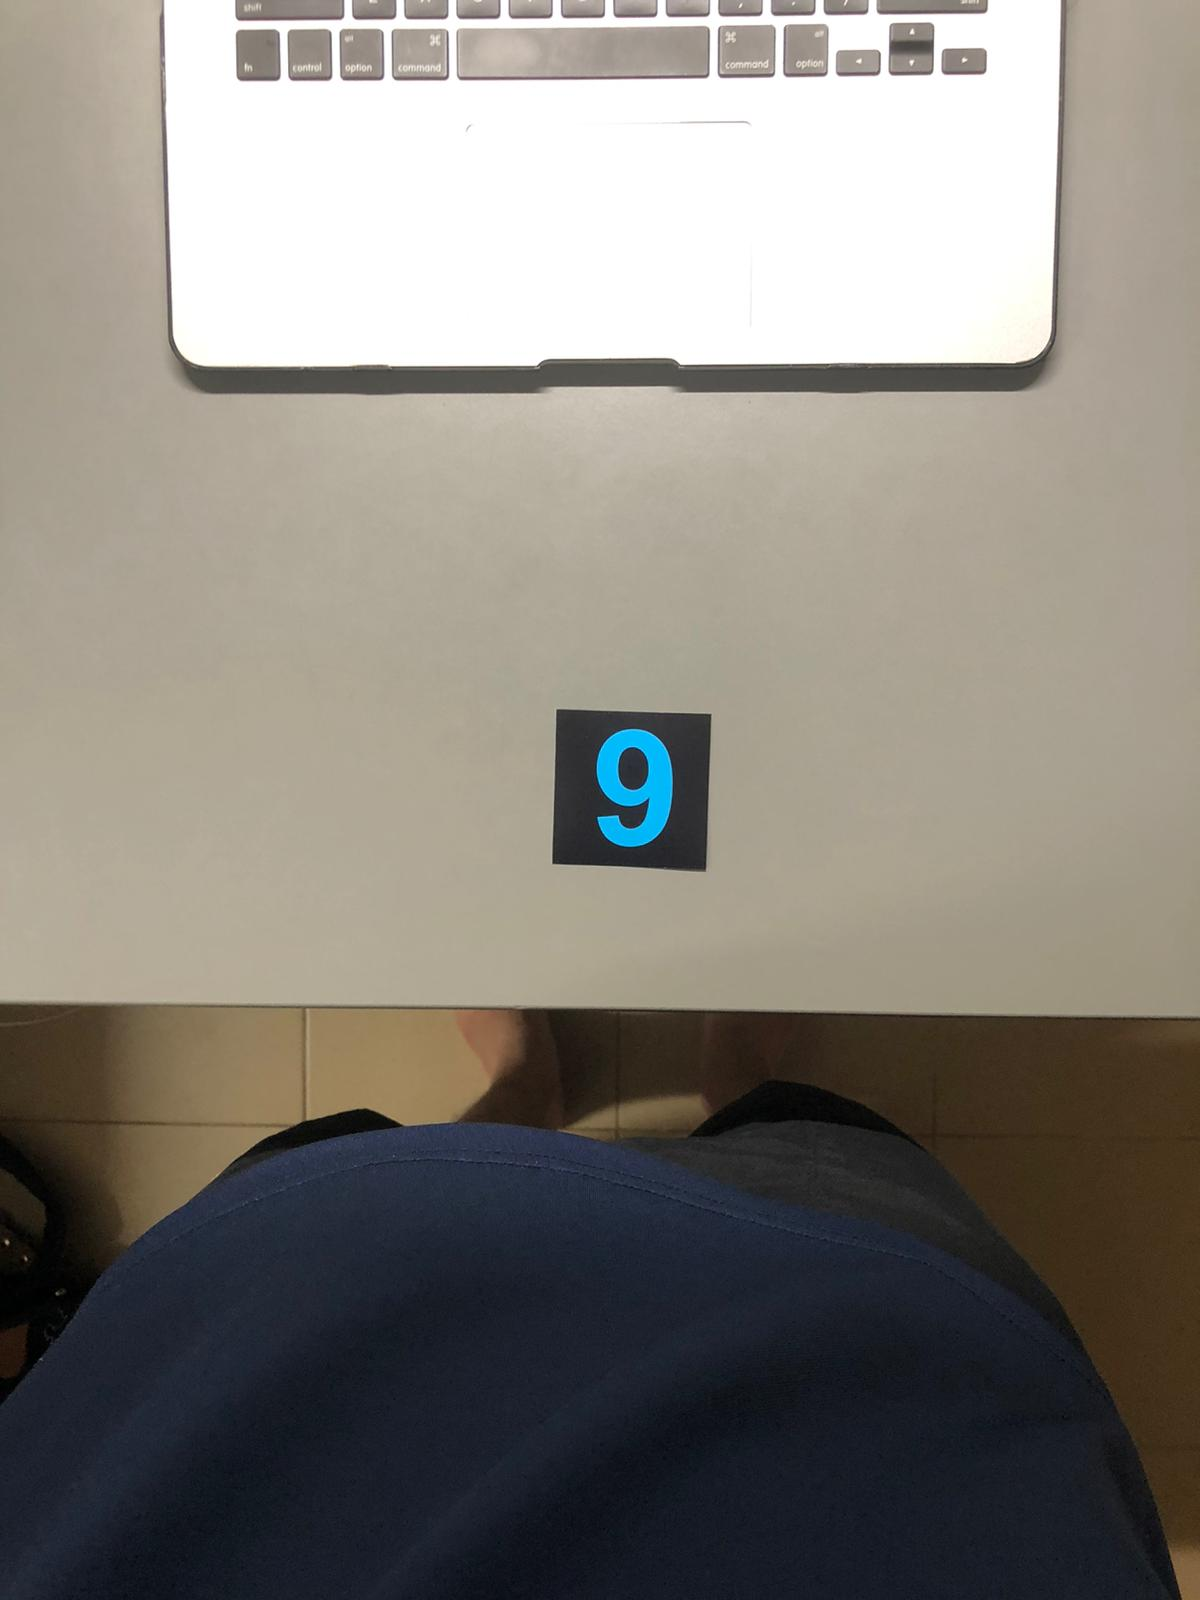Number 9: (550, 712, 711, 871)
